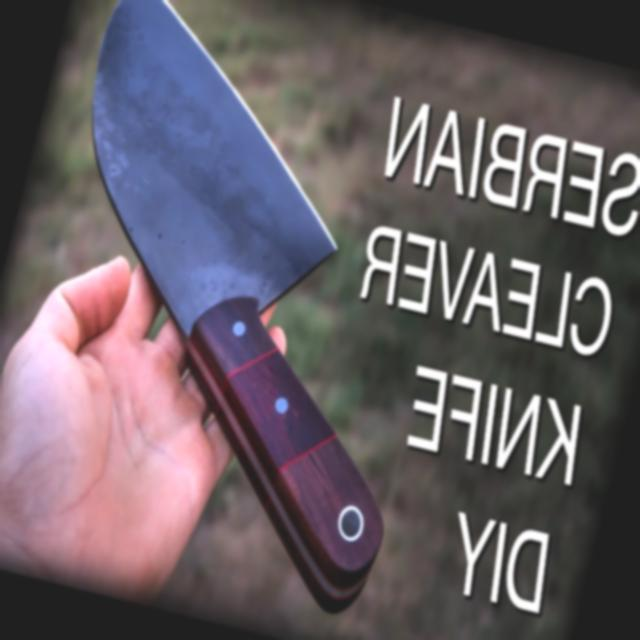cleaver: (0, 0, 501, 626)
